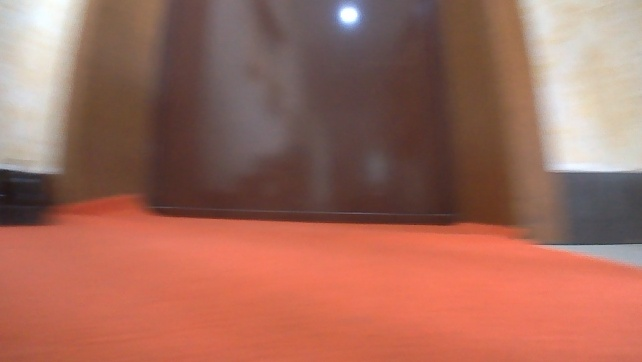blanket: (0, 191, 641, 361)
